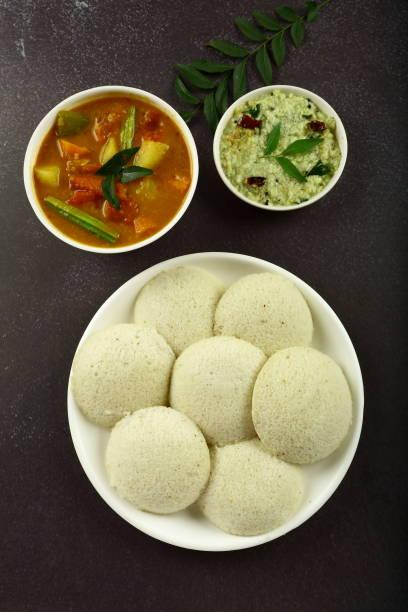coconut chutney: (212, 94, 350, 213)
idli: (67, 256, 370, 548)
sambhar: (41, 93, 202, 250)
